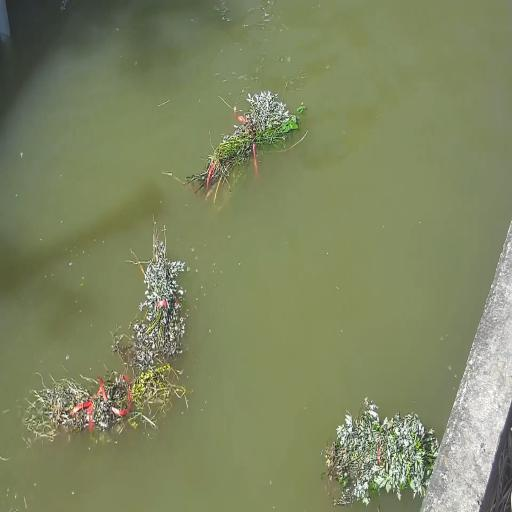twig: (18, 326, 209, 451), (183, 86, 303, 200), (323, 396, 438, 508), (125, 216, 190, 367)
